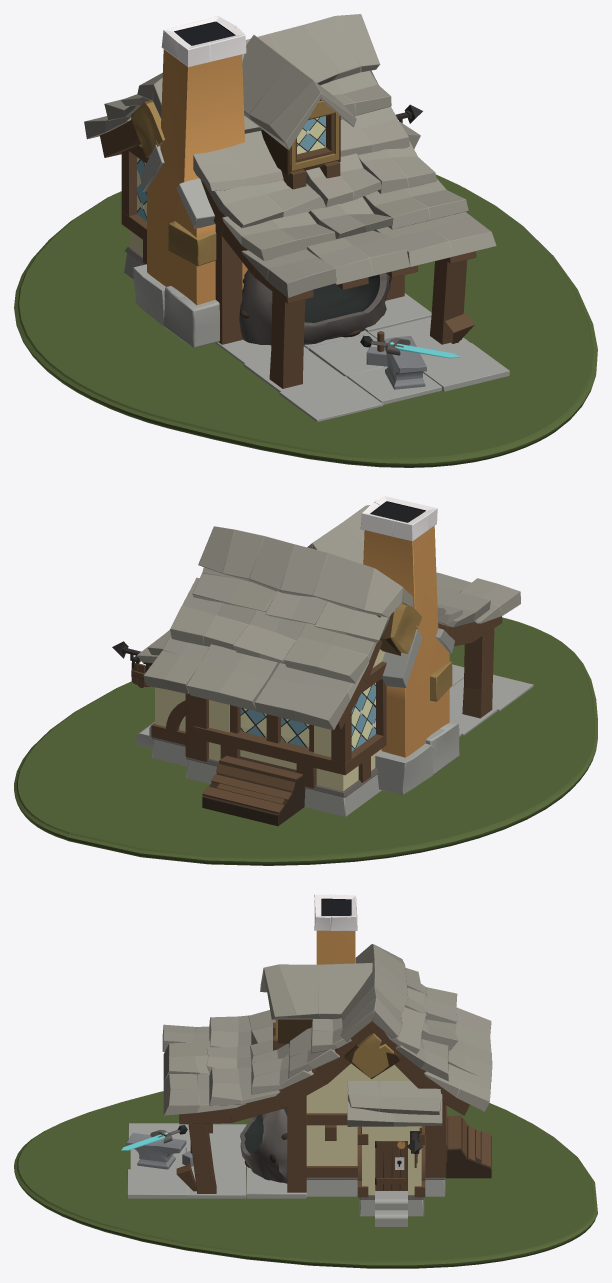
3 views of the same model, one above another, from view 1: azimuth 30°, elevation 25°; view 2: azimuth 150°, elevation 25°; view 3: azimuth 270°, elevation 25° (orthographic). The views are drawn at different scales.
Visible parts, largest first — view 1: object 17, Cube_2_7, Cube_1_2, Boole_1, Cube_7_3, Cube_5_2, Cube_8_2, Cube_7_2, Cube_9_2, Cube_3_3, Boole_1_3, Cube_11_2 (+32 smaller); view 2: object 17, Cube_7_3, Cube_2_7, Cube_9_3, Cube_5_5, Cube_2_4, Cube_4_4, Cube_2_24, object 263, Boole_1_3, object 301, Cube_3_4 (+29 smaller); view 3: object 17, Cube_1_2, Cube_7_3, object 263, Boole_1, Cube_1_6, object 54, object 53, Cube_5_2, object 261, object 284, Cube_2_24 (+35 smaller).
Boxes of the visible parts, left/top/right/bottom form: object 17: left=14, top=174, right=597, bottom=467; Cube_2_7: left=147, top=49, right=247, bottom=305; Cube_1_2: left=242, top=35, right=356, bottom=150; Boole_1: left=239, top=269, right=390, bottom=345; Cube_7_3: left=137, top=14, right=380, bottom=118; Cube_5_2: left=373, top=211, right=496, bottom=267; Cube_8_2: left=204, top=180, right=325, bottom=228; Cube_7_2: left=193, top=131, right=283, bottom=191; Cube_9_2: left=307, top=230, right=409, bottom=284; Cube_3_3: left=222, top=211, right=335, bottom=260; Boole_1_3: left=161, top=16, right=246, bottom=66; Cube_11_2: left=363, top=178, right=468, bottom=229; object 17: left=14, top=617, right=597, bottom=865; Cube_7_3: left=198, top=526, right=413, bottom=617; Cube_2_7: left=363, top=526, right=449, bottom=757; Cube_9_3: left=254, top=661, right=369, bottom=730; Cube_5_5: left=186, top=644, right=279, bottom=711; Cube_2_4: left=283, top=623, right=376, bottom=683; Cube_4_4: left=170, top=577, right=256, bottom=650; Cube_2_24: left=152, top=739, right=381, bottom=816; object 263: left=209, top=649, right=384, bottom=791; Boole_1_3: left=360, top=496, right=437, bottom=541; object 301: left=193, top=726, right=338, bottom=773; Cube_3_4: left=233, top=610, right=305, bottom=663; object 17: left=14, top=1091, right=597, bottom=1268; Cube_1_2: left=260, top=963, right=372, bottom=1019; Cube_7_3: left=340, top=944, right=408, bottom=1041; object 263: left=306, top=1063, right=410, bottom=1165; Boole_1: left=240, top=1107, right=287, bottom=1183; Cube_1_6: left=347, top=1081, right=441, bottom=1114; object 54: left=179, top=1068, right=326, bottom=1124; object 53: left=316, top=1021, right=469, bottom=1115; Cube_5_2: left=163, top=1074, right=245, bottom=1115; object 261: left=362, top=1126, right=421, bottom=1194; object 284: left=287, top=1096, right=306, bottom=1192; Cube_2_24: left=306, top=1178, right=445, bottom=1216.
Size of the model in its own units: 1522 by 862 by 1948.
